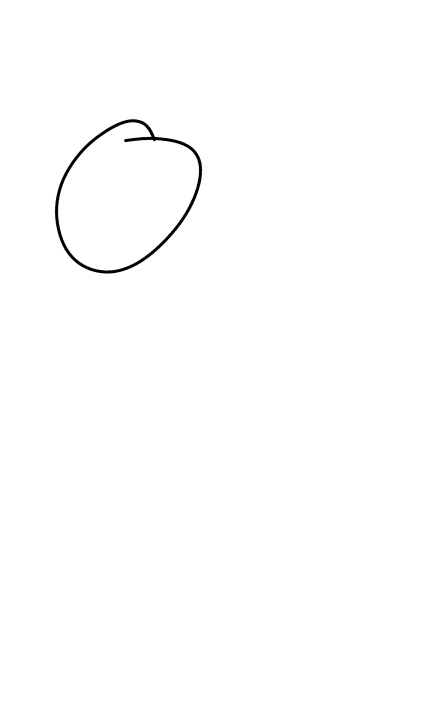Circle: (50, 115, 208, 280)
